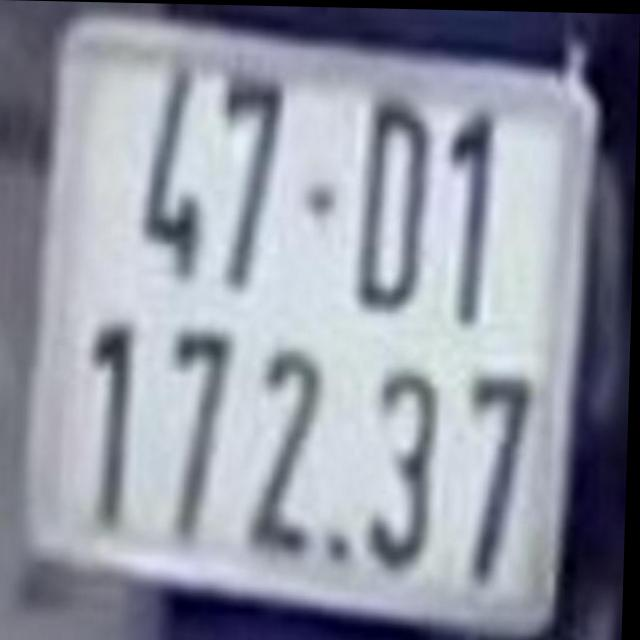1: (445, 96, 501, 348), (84, 318, 138, 536)
2: (248, 337, 326, 570)
3: (371, 357, 441, 563)
4: (144, 55, 214, 281)
7: (465, 375, 539, 589), (215, 78, 284, 293), (164, 322, 219, 536)
D: (346, 93, 432, 322)
